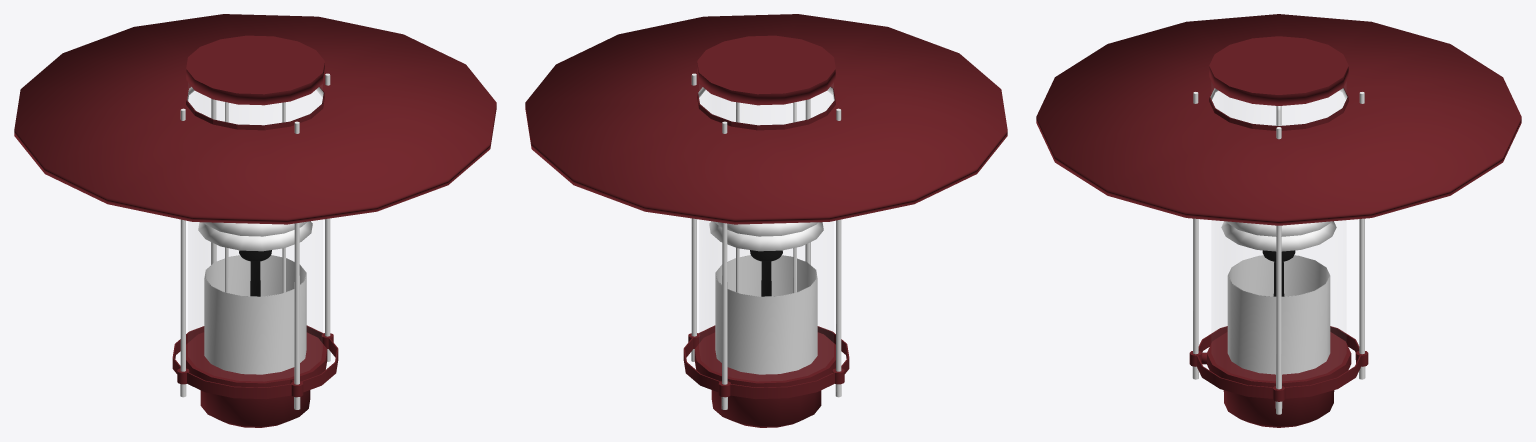
The model's file is City-Light_Plus.glb.
The picture shows the model from 3 angles, left to right: view 1: azimuth 30°, elevation 25°; view 2: azimuth 150°, elevation 25°; view 3: azimuth 270°, elevation 25°; orthographic projection.
Parts seen in each view (by area): view 1: Siteco City-Light Plus; view 2: Siteco City-Light Plus; view 3: Siteco City-Light Plus.
Part boxes in pixels (x1,y1,x2,y2): Siteco City-Light Plus: (14, 14, 496, 427); Siteco City-Light Plus: (525, 14, 1007, 427); Siteco City-Light Plus: (1036, 14, 1521, 427).
Size of the model in its own units: 0.7528 by 0.5934 by 0.7528.
5 materials, 4 textured.
